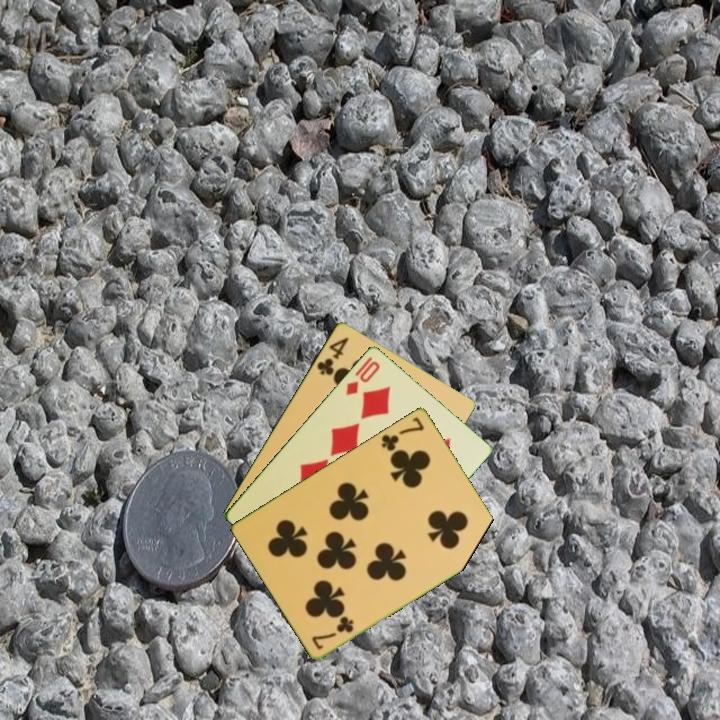10d: (342, 353, 383, 398)
4c: (313, 333, 352, 378)
7c: (377, 413, 427, 454), (308, 612, 357, 652)
